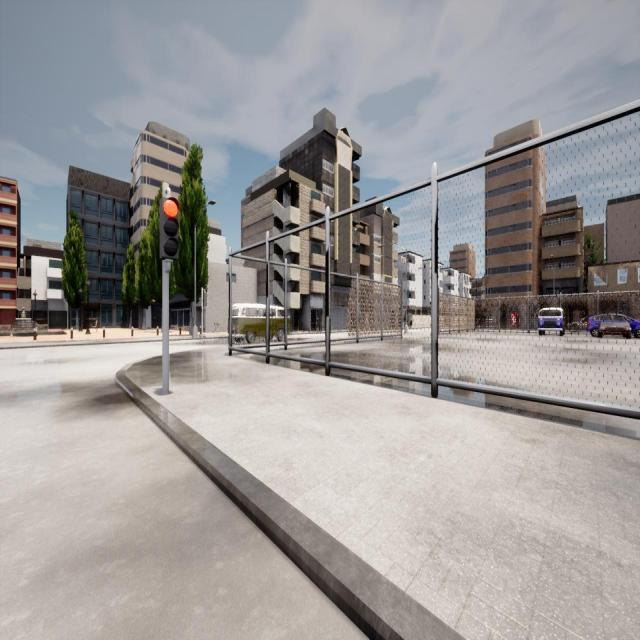Vehicle: (230, 304, 290, 342), (587, 315, 640, 338), (598, 314, 632, 338), (538, 307, 564, 335)
traffic_light: (159, 198, 179, 259), (203, 293, 207, 306)
